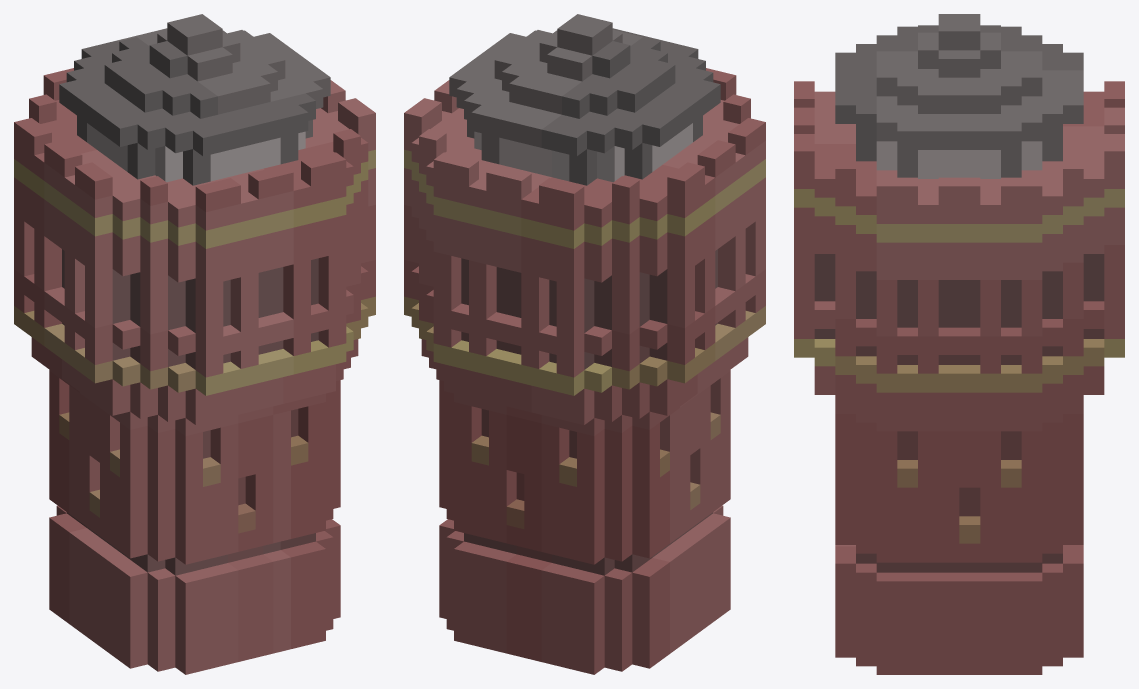
The model's file is watertoren.fbx.
3 renders of one model, left to right at view 1: azimuth 30°, elevation 25°; view 2: azimuth 150°, elevation 25°; view 3: azimuth 270°, elevation 25°, orthographic. The views are drawn at different scales.
Parts seen in each view (by area): view 1: Layer.068; view 2: Layer.068; view 3: Layer.068.
Boxes of the visible parts, bbox=[...] form: Layer.068: bbox=[14, 14, 375, 674]; Layer.068: bbox=[404, 14, 765, 674]; Layer.068: bbox=[794, 14, 1124, 674].
Bounding box in the file's own units: 1600 × 3200 × 1600.
